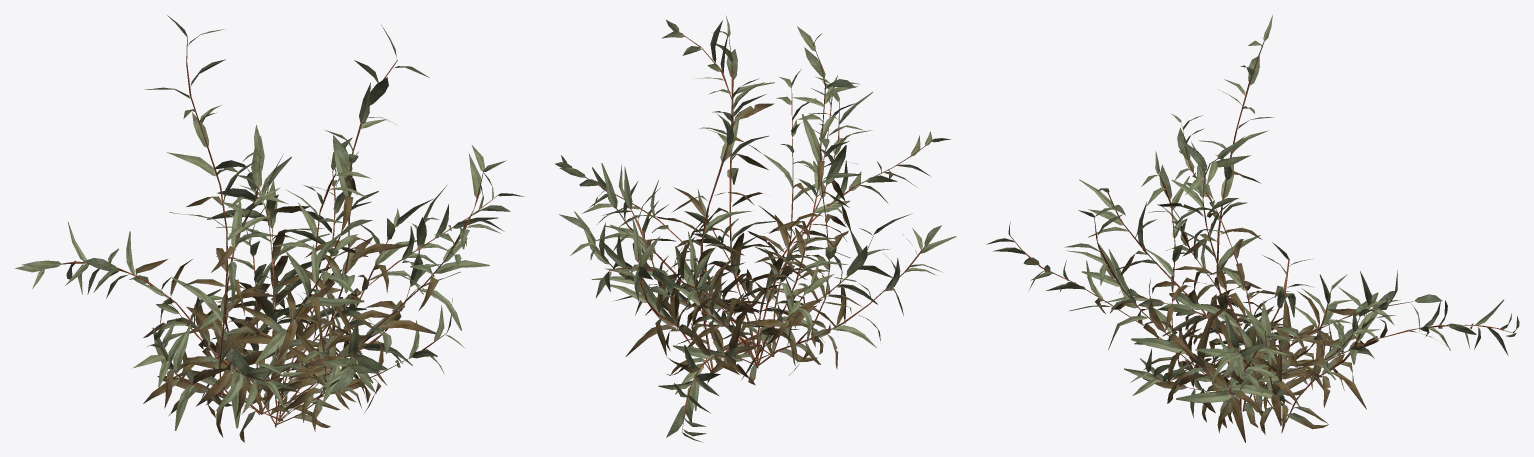
Rendered from shrub_02.glb.
The picture shows the model from 3 angles, left to right: view 1: azimuth 30°, elevation 25°; view 2: azimuth 150°, elevation 25°; view 3: azimuth 270°, elevation 25°; orthographic projection. The views are drawn at different scales.
Visible parts, largest first — view 1: shrub_02_a; view 2: shrub_02_a; view 3: shrub_02_a.
Part boxes in pixels (box(x1,y1,x2,y2)): shrub_02_a: box(15, 15, 524, 442); shrub_02_a: box(555, 15, 956, 442); shrub_02_a: box(986, 14, 1519, 442).
Bounding box in the file's own units: 1.77 × 1.69 × 2.28.
1 material, 1 textured.
